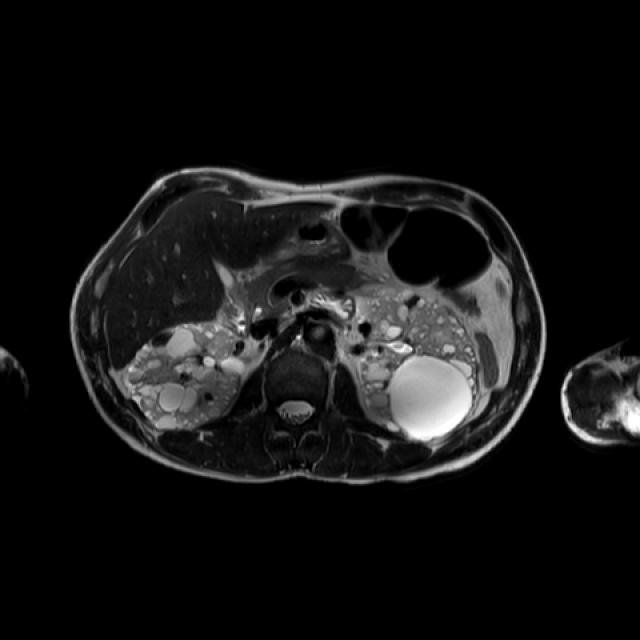sag: (129, 322, 239, 429)
sol: (361, 284, 482, 442)
